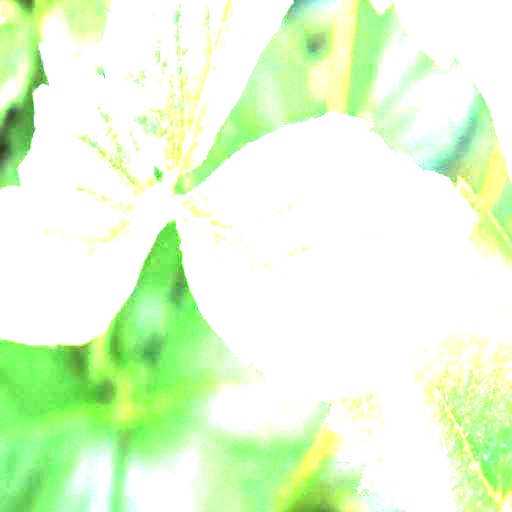Powdery Mildew Leaf: (171, 110, 482, 398), (0, 40, 170, 346), (99, 0, 294, 180)
